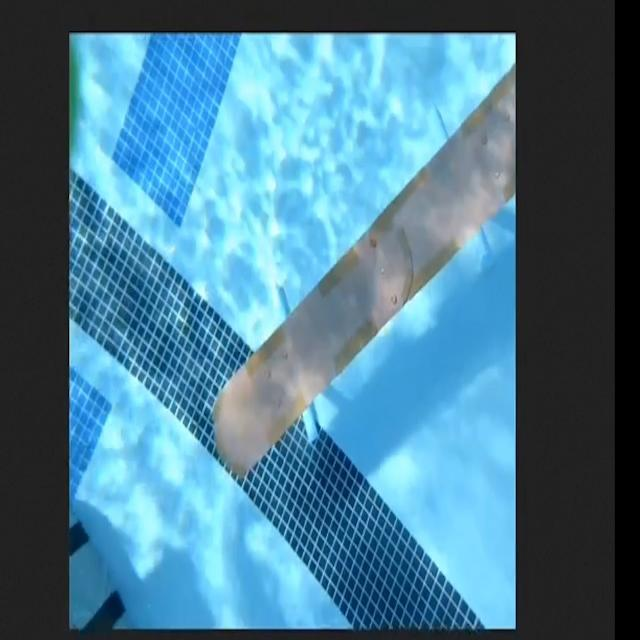Path: (206, 37, 513, 491)
